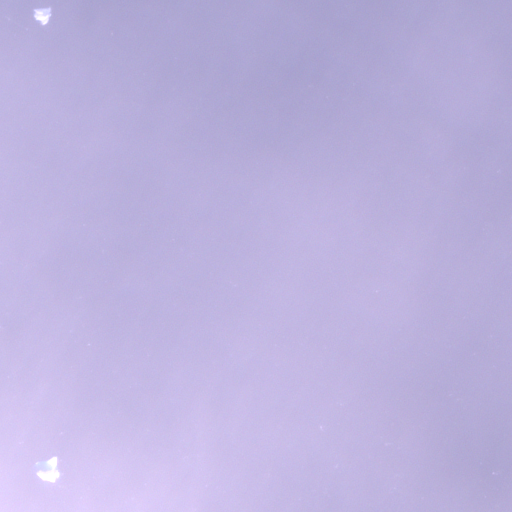Iceberg: (36, 456, 59, 482), (33, 6, 51, 25)
